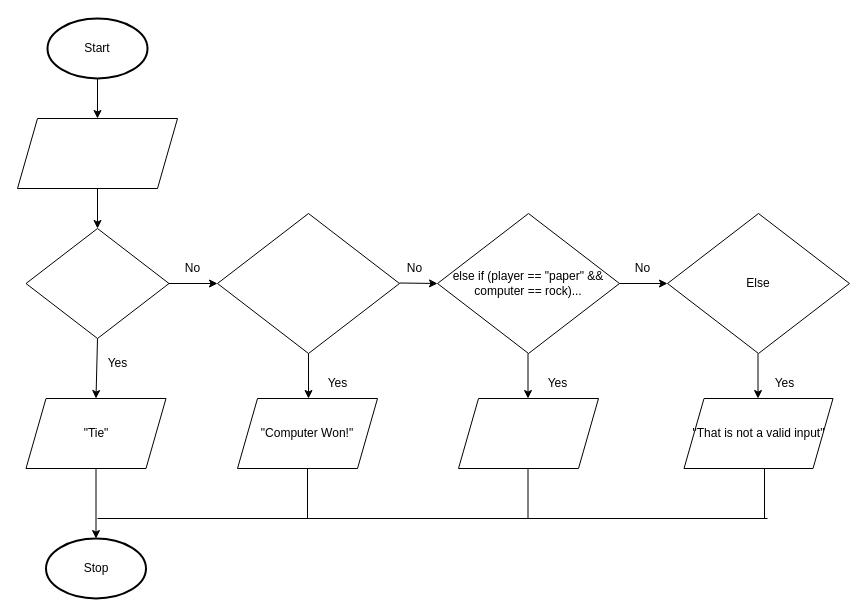
The diagram is 867 pixels wide and 616 high, and some of its shapes have lost their labels. Here are the shapes that lost their labels. From the top down, the centre of each, then its label:
the point at 97,153: Enter rock,paper,scissors
the point at 97,283: If player == computer
the point at 308,283: else if (player == "rock" && computer == paper)...
the point at 528,433: "You Won!"
